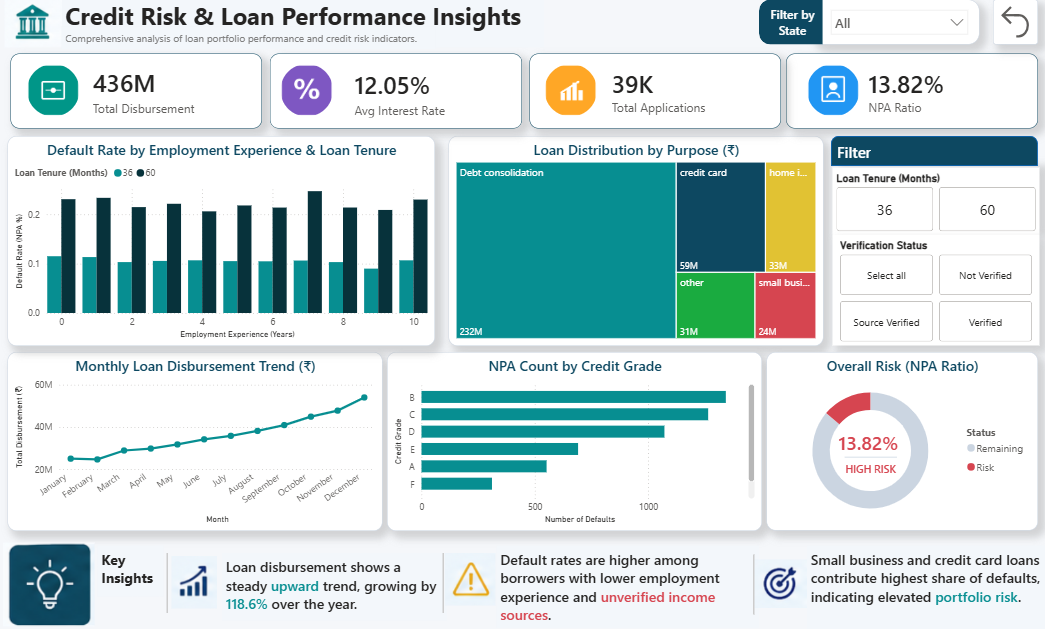

The dashboard page shown, as its layout file describes it:
{"tool":"powerbi","page":{"name":"Page 1","canvas":[1400,850],"ordinal":0},"visuals":[{"type":"cardVisual","title":"Total Disbursement (₹)","fields":{"Data":["Table1.Total Disbursement"]},"box":[14.2,78.3,335,100],"z":0},{"type":"donutChart","title":"Loan Distribution by Purpose (₹)","fields":{"Category":["financial_loan.purpose"],"Y":["Sum(financial_loan.loan_amount)"]},"box":[598,188,500,280],"z":1000},{"type":"cardVisual","title":"Avg Interest Rate (%)","fields":{"Data":["Table1.Avg Interest Rate"]},"box":[360,78,336,100],"z":2000},{"type":"lineChart","title":"Monthly Loan Disbursement Trend (₹)","fields":{"Category":["financial_loan.issue_date.Variation.Date Hierarchy.Month"],"Y":["Sum(financial_loan.loan_amount)"]},"box":[10,475,500,238.3],"z":3000},{"type":"barChart","title":"NPA Count by Credit Grade","fields":{"Category":["financial_loan.grade"],"Y":["Sum(financial_loan.Is_NPA)"]},"box":[515,475,500,238.3],"z":4000},{"type":"clusteredColumnChart","title":"Default Rate by Employment Experience & Loan Tenure","fields":{"Category":["financial_loan.Emp_Years_Rank"],"Y":["Avg(financial_loan.Is_NPA)"],"Series":["financial_loan.Loan_Term_Months"]},"box":[10,188,570,280],"z":5000},{"type":"slicer","title":"Filter by State","fields":{"Values":["Sheet1.address_state"]},"box":[1082,6,224,60],"z":6000},{"type":"advancedSlicerVisual","title":"Loan Tenure (Months)","fields":{"Values":["financial_loan.Loan_Term_Months"]},"box":[1109,229,276,90],"z":7000},{"type":"advancedSlicerVisual","title":"Verification Status","fields":{"Values":["financial_loan.verification_status"]},"box":[1109,319,276,147],"z":8000},{"type":"textbox","title":"Loan Portfolio & Risk Analysis Dashboard","box":[82.2,0,643.3,70],"z":9000},{"type":"cardVisual","fields":{"Data":["Table1.NPA Ratio"]},"box":[1048,78,336,100],"z":10000},{"type":"actionButton","box":[1324,6,60,60],"z":11000},{"type":"image","box":[1076,92,70,70],"z":12000},{"type":"image","box":[36,92,70,70],"z":13000},{"type":"image","box":[374,92,70,70],"z":14000},{"type":"cardVisual","fields":{"Data":["Table1.Total Applications"]},"box":[706.2,78,335,100],"z":15000},{"type":"image","box":[726,92,70,70],"z":16000},{"type":"image","box":[5,0,76.7,71.7],"z":17000},{"type":"textbox","box":[82.5,41.2,498.8,30],"z":18000},{"type":"shape","box":[1076.7,668.3,130,33.3],"z":19000},{"type":"image","box":[0,730,130,112],"z":20000},{"type":"shape","box":[1108.6,188.6,275.7,40],"z":21000},{"type":"gauge","title":"Overall Risk Gauge","fields":{"Y":["Table1.NPA Ratio"]},"box":[1022,476,362,238],"z":22000},{"type":"textbox","box":[130,734,88,68],"z":23000},{"type":"textbox","box":[296,744,300,90],"z":24000},{"type":"image","box":[224,748,70,70],"z":25000},{"type":"shape","box":[186,744,74,80],"z":26000},{"type":"shape","box":[696,744,74,80],"z":27000},{"type":"textbox","box":[662,734,350,110],"z":28000},{"type":"textbox","box":[1076,734,318,112],"z":29000},{"type":"image","box":[1006,750,70,70],"z":30000},{"type":"image","box":[592,744,70,70],"z":31000},{"type":"shape","box":[968,746,74,80],"z":32000},{"type":"shape","box":[554,744,74,80],"z":33000},{"type":"shape","title":"Filter by State","box":[1012.5,6.2,85,60],"z":34000}]}

Visuals, with their boxes in screenshot pixels (x1, y1, x2, y2), scaled from the page's 1400x850 canvas onto the 1045x629 screenshot:
"Total Disbursement (₹)" cardVisual: select_region(11, 58, 261, 132)
"Loan Distribution by Purpose (₹)" donutChart: select_region(446, 139, 820, 346)
"Avg Interest Rate (%)" cardVisual: select_region(269, 58, 520, 132)
"Monthly Loan Disbursement Trend (₹)" lineChart: select_region(7, 352, 381, 528)
"NPA Count by Credit Grade" barChart: select_region(384, 352, 758, 528)
"Default Rate by Employment Experience & Loan Tenure" clusteredColumnChart: select_region(7, 139, 433, 346)
"Filter by State" slicer: select_region(808, 4, 975, 49)
"Loan Tenure (Months)" advancedSlicerVisual: select_region(828, 169, 1034, 236)
"Verification Status" advancedSlicerVisual: select_region(828, 236, 1034, 345)
"Loan Portfolio & Risk Analysis Dashboard" textbox: select_region(61, 0, 542, 52)
cardVisual - Table1.NPA Ratio: select_region(782, 58, 1033, 132)
actionButton: select_region(988, 4, 1033, 49)
image: select_region(803, 68, 855, 120)
image: select_region(27, 68, 79, 120)
image: select_region(279, 68, 331, 120)
cardVisual - Table1.Total Applications: select_region(527, 58, 777, 132)
image: select_region(542, 68, 594, 120)
image: select_region(4, 0, 61, 53)
textbox: select_region(62, 30, 434, 53)
shape: select_region(804, 495, 901, 519)
image: select_region(0, 540, 97, 623)
shape: select_region(827, 140, 1033, 169)
"Overall Risk Gauge" gauge: select_region(763, 352, 1033, 528)
textbox: select_region(97, 543, 163, 593)
textbox: select_region(221, 551, 445, 617)
image: select_region(167, 554, 219, 605)
shape: select_region(139, 551, 194, 610)
shape: select_region(520, 551, 575, 610)
textbox: select_region(494, 543, 755, 625)
textbox: select_region(803, 543, 1041, 626)
image: select_region(751, 555, 803, 607)
image: select_region(442, 551, 494, 602)
shape: select_region(723, 552, 778, 611)
shape: select_region(414, 551, 469, 610)
"Filter by State" shape: select_region(756, 5, 819, 49)
